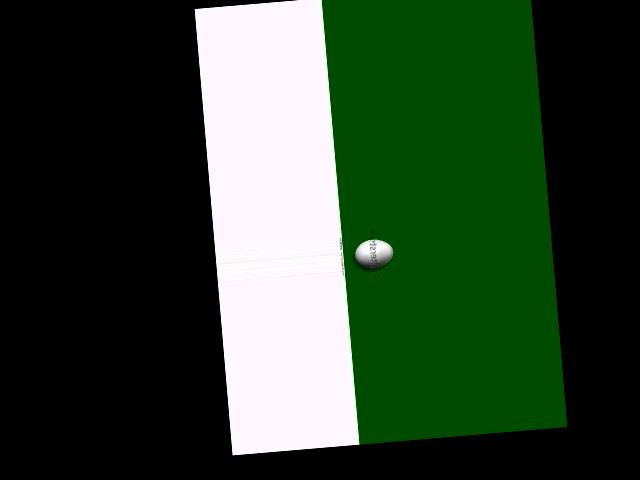egg: (354, 237, 394, 269)
